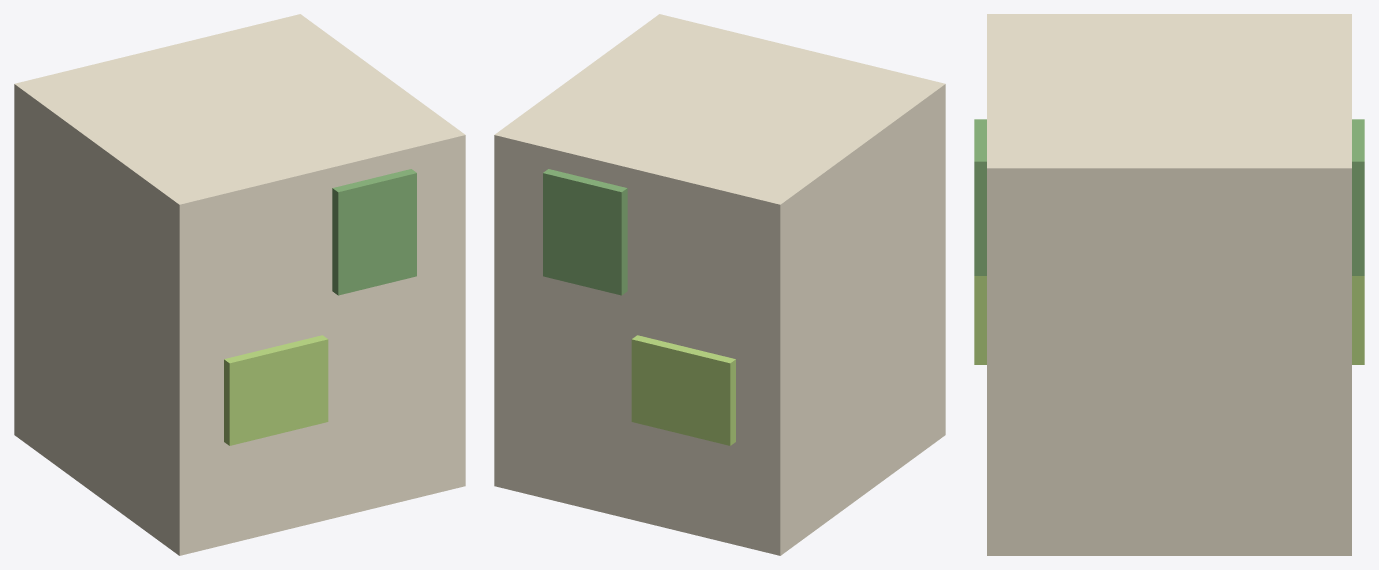
The model's file is druida_manga_sup.glb.
3 renders of one model, left to right at view 1: azimuth 30°, elevation 25°; view 2: azimuth 150°, elevation 25°; view 3: azimuth 270°, elevation 25°, orthographic. The views are drawn at different scales.
Visible parts, largest first — view 1: druida_manga_sup; view 2: druida_manga_sup; view 3: druida_manga_sup.
Part boxes in pixels (<box>): druida_manga_sup: <box>14,14,465,555</box>; druida_manga_sup: <box>494,14,945,555</box>; druida_manga_sup: <box>974,14,1364,555</box>.
Size of the model in its own units: 0.29 by 0.34 by 0.31.
